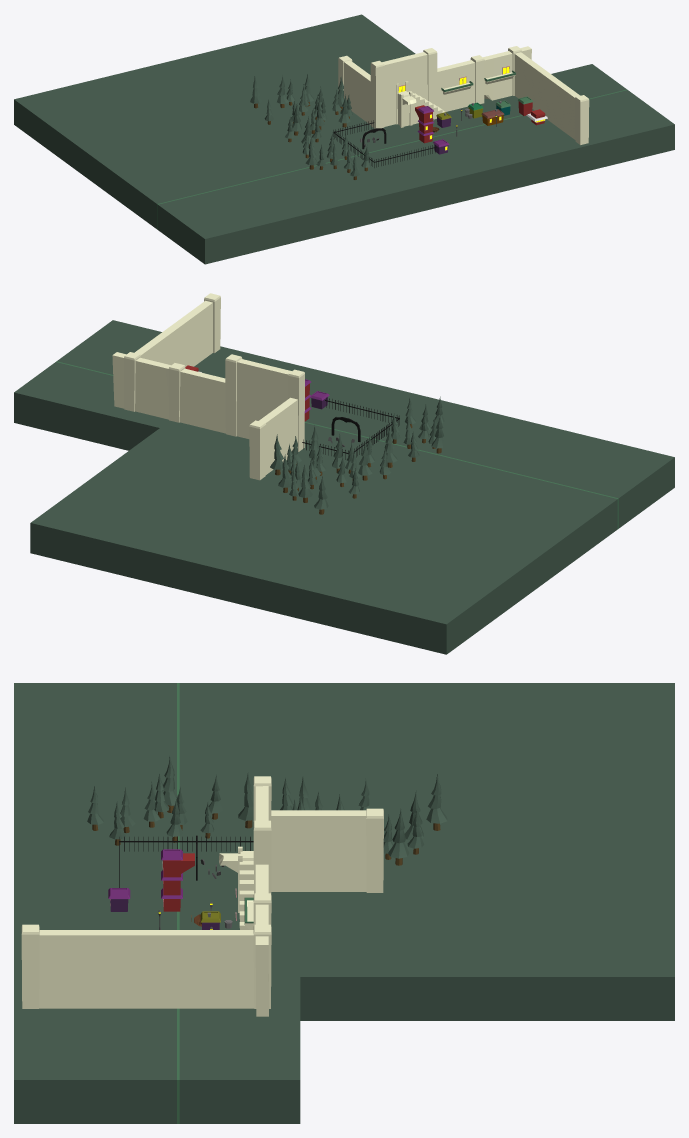
The model's file is Level for the millionth time V2.glb.
The picture shows the model from 3 angles, top to bottom: view 1: azimuth 30°, elevation 25°; view 2: azimuth 150°, elevation 25°; view 3: azimuth 270°, elevation 25°; orthographic projection. The views are drawn at different scales.
Parts seen in each view (by area): view 1: Cube_col, Houses_col, Roof, Fencepost; view 2: Cube_col, Houses_col, Fencepost; view 3: Cube_col, Houses_col, Roof.
Boxes of the visible parts, <box> form: Cube_col: <box>14,14,674,264</box>; Houses_col: <box>338,46,589,154</box>; Roof: <box>417,70,545,147</box>; Fencepost: <box>333,120,435,167</box>; Cube_col: <box>14,320,674,654</box>; Houses_col: <box>112,293,327,480</box>; Fencepost: <box>303,397,399,459</box>; Cube_col: <box>14,683,674,1123</box>; Houses_col: <box>21,776,383,1016</box>; Roof: <box>108,849,253,924</box>.
Size of what is drawn, in the model's own units: 309 by 55.82 by 217.
